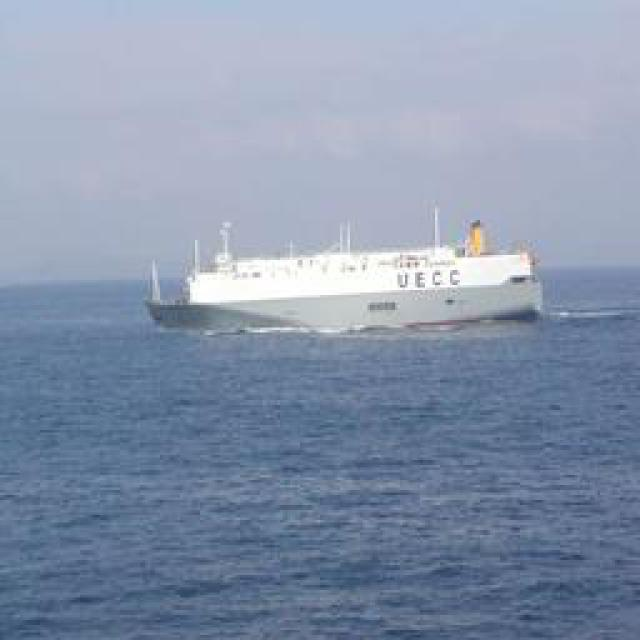Ship: (145, 220, 553, 335)
